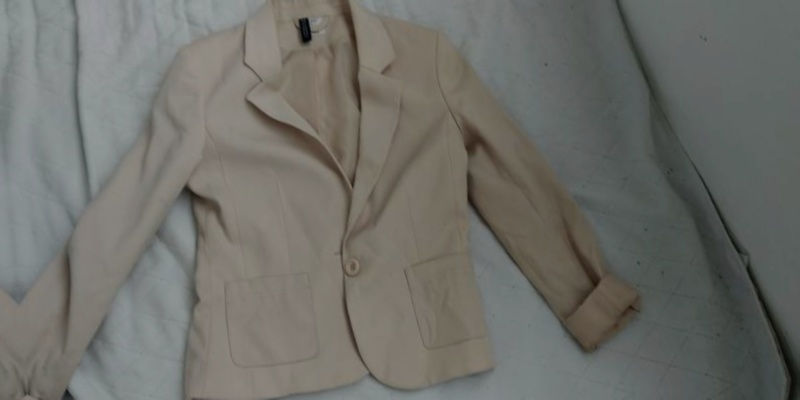Blazer: (0, 0, 650, 400), (0, 0, 611, 23), (0, 27, 30, 400)
